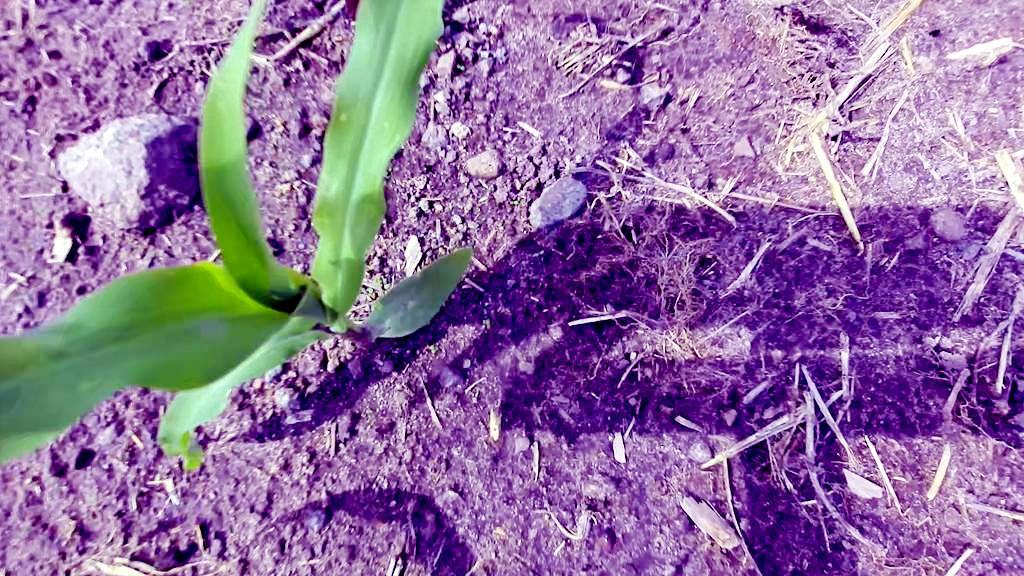BroWeed: (276, 180, 303, 193), (295, 183, 308, 207), (364, 285, 377, 299), (272, 123, 285, 135), (532, 248, 546, 258), (483, 317, 492, 331), (428, 343, 438, 355), (455, 62, 466, 71), (509, 199, 519, 205)
